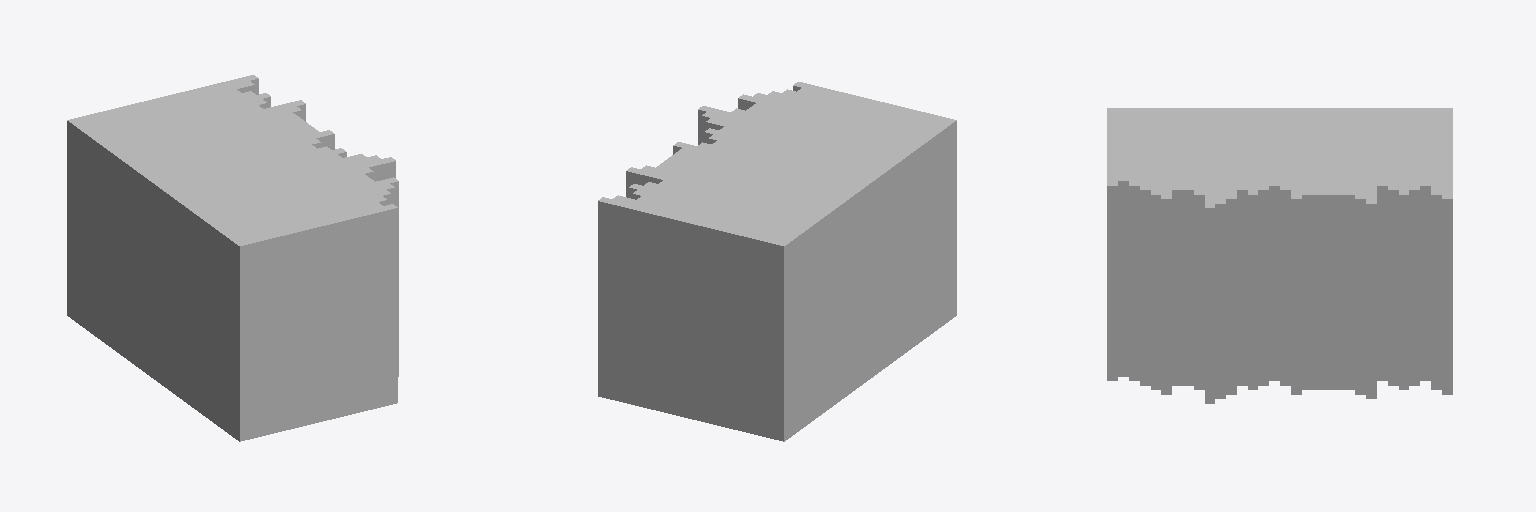
Rendered from pondtile-3.obj.
3 views of the same model, side by side, from view 1: azimuth 30°, elevation 25°; view 2: azimuth 150°, elevation 25°; view 3: azimuth 270°, elevation 25° (orthographic).
Parts seen in each view (by area): view 1: pondtile-3; view 2: pondtile-3; view 3: pondtile-3.
Boxes of the visible parts, box(x1,y1,x2,y2) form: pondtile-3: box(67, 75, 398, 441); pondtile-3: box(598, 82, 956, 441); pondtile-3: box(1107, 108, 1452, 403).
Size of the model in its own units: 2.2 by 2 by 3.2.